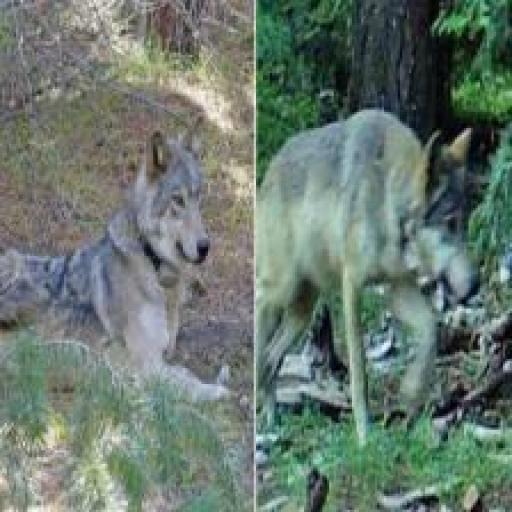wolf: (247, 114, 489, 432), (0, 114, 238, 418)
